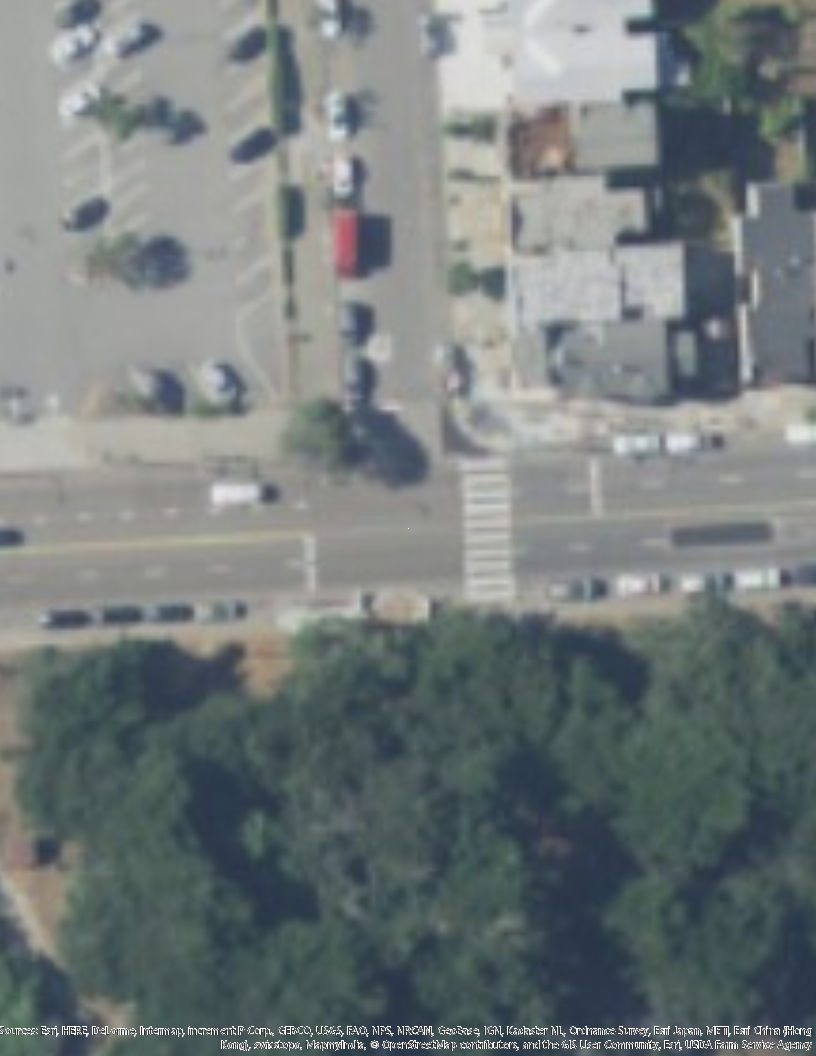zebracross: (462, 453, 513, 605)
